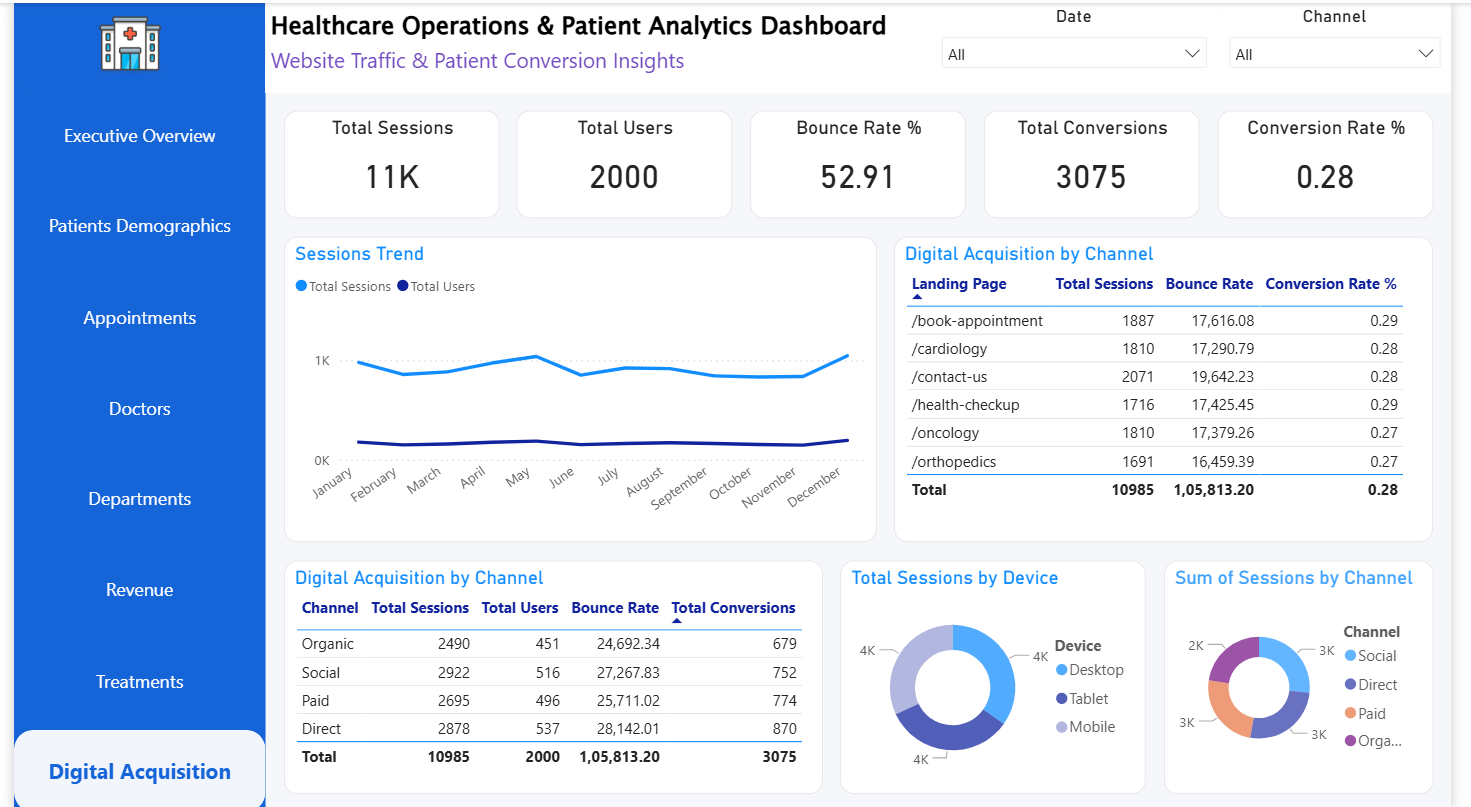

This screenshot's page, from the dashboard's own definition file:
{"tool":"powerbi","page":{"name":"Digital Acquisition ","canvas":[1280,720],"ordinal":7},"visuals":[{"type":"shape","box":[0,0,224,80],"z":0,"group":"g1"},{"type":"pageNavigator","box":[0,80,224,640],"z":0},{"type":"group","id":"g1","title":"Group 1","box":[0,0,224,80],"z":1000},{"type":"image","box":[64,0,80,64],"z":1000,"group":"g1"},{"type":"textbox","box":[224,0,800,80],"z":2000},{"type":"card","title":"Total Sessions","fields":{"Values":["Sum(Digital_Acquisition.Sessions)"]},"box":[240,96,192,96],"z":3000},{"type":"card","title":"Total Users","fields":{"Values":["CountNonNull(Digital_Acquisition.User_ID)"]},"box":[448,96,192,96],"z":4000},{"type":"card","title":"Bounce Rate %","fields":{"Values":["Digital_Acquisition.Avg Bounce Rate %"]},"box":[656,96,192,96],"z":5000},{"type":"card","title":"Total Conversions","fields":{"Values":["Sum(Digital_Acquisition.Conversions)"]},"box":[864,96,192,96],"z":6000},{"type":"card","title":"Conversion Rate %","fields":{"Values":["Digital_Acquisition.Conversion Rate %"]},"box":[1072,96,192,96],"z":7000},{"type":"lineChart","title":"Sessions Trend","fields":{"Category":["Digital_Acquisition.Date.Variation.Date Hierarchy.Month"],"Y":["Digital_Acquisition.Total Sessions","Digital_Acquisition.Total Users"]},"box":[240,208,528,272],"z":8000},{"type":"donutChart","fields":{"Y":["Sum(Digital_Acquisition.Sessions)"],"Category":["Digital_Acquisition.Channel"]},"box":[1024,496,240,208],"z":9000},{"type":"tableEx","title":"Digital Acquisition by Channel","fields":{"Values":["Digital_Acquisition.Channel","Sum(Digital_Acquisition.Sessions)","CountNonNull(Digital_Acquisition.User_ID)","Sum(Digital_Acquisition.Bounce_Rate)","Sum(Digital_Acquisition.Conversions)"]},"box":[240,496,480,208],"z":10000},{"type":"slicer","title":"Channel","fields":{"Values":["Digital_Acquisition.Channel"]},"box":[1072,0,208,80],"z":11000},{"type":"tableEx","title":"Digital Acquisition by Channel","fields":{"Values":["Digital_Acquisition.Landing_Page","Sum(Digital_Acquisition.Sessions)","Sum(Digital_Acquisition.Bounce_Rate)","Digital_Acquisition.Conversion Rate %"]},"box":[784,208,480,272],"z":12000},{"type":"slicer","title":"Date","fields":{"Values":["Digital_Acquisition.Date","Digital_Acquisition.Date.Variation.Date Hierarchy.Month"]},"box":[816,0,256,80],"z":13000},{"type":"donutChart","fields":{"Category":["Digital_Acquisition.Device"],"Y":["Digital_Acquisition.Total Sessions"]},"box":[736,496,272,208],"z":14000}]}

Visuals, with their boxes on the page's 1280x720 design canvas (x1, y1, x2, y2). These are canvas units, not pixel positions in the 1471x807 screenshot, which may show the page scaled, cropped or inside an application window:
shape: box=[0, 0, 224, 80]
pageNavigator: box=[0, 80, 224, 720]
"Group 1" group: box=[0, 0, 224, 80]
image: box=[64, 0, 144, 64]
textbox: box=[224, 0, 1024, 80]
"Total Sessions" card: box=[240, 96, 432, 192]
"Total Users" card: box=[448, 96, 640, 192]
"Bounce Rate %" card: box=[656, 96, 848, 192]
"Total Conversions" card: box=[864, 96, 1056, 192]
"Conversion Rate %" card: box=[1072, 96, 1264, 192]
"Sessions Trend" lineChart: box=[240, 208, 768, 480]
donutChart - Sum(Digital_Acquisition.Sessions) x Digital_Acquisition.Channel: box=[1024, 496, 1264, 704]
"Digital Acquisition by Channel" tableEx: box=[240, 496, 720, 704]
"Channel" slicer: box=[1072, 0, 1280, 80]
"Digital Acquisition by Channel" tableEx: box=[784, 208, 1264, 480]
"Date" slicer: box=[816, 0, 1072, 80]
donutChart - Digital_Acquisition.Device x Digital_Acquisition.Total Sessions: box=[736, 496, 1008, 704]
